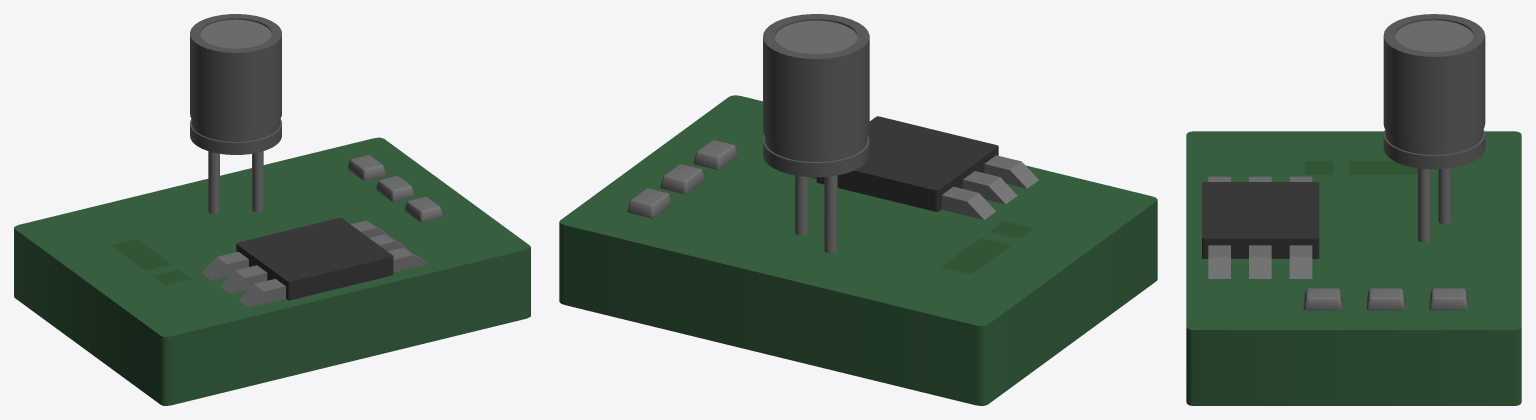
File: PiezasElectronicas.fbx
3 views of the same model, side by side, from view 1: azimuth 30°, elevation 25°; view 2: azimuth 150°, elevation 25°; view 3: azimuth 270°, elevation 25° (orthographic). The views are drawn at different scales.
Visible parts, largest first — view 1: Cube, Cylinder, Cube.001, Cube.002, Cube.003, Cylinder.001; view 2: Cube, Cylinder, Cube.001, Cube.002, Cube.003, Cylinder.001; view 3: Cube, Cylinder, Cube.001, Cube.002, Cube.003, Cylinder.001.
Part boxes in pixels (<box>): Cube: <box>14,137,530,405</box>; Cylinder: <box>190,14,281,154</box>; Cube.001: <box>236,218,393,300</box>; Cube.002: <box>202,220,428,307</box>; Cube.003: <box>347,155,443,222</box>; Cylinder.001: <box>208,151,263,213</box>; Cube: <box>559,95,1157,405</box>; Cylinder: <box>763,14,869,177</box>; Cube.001: <box>816,116,998,211</box>; Cube.002: <box>808,155,1038,219</box>; Cube.003: <box>627,140,738,218</box>; Cylinder.001: <box>795,175,837,253</box>; Cube: <box>1186,131,1521,405</box>; Cylinder: <box>1383,14,1485,169</box>; Cube.001: <box>1202,182,1319,258</box>; Cube.002: <box>1208,176,1312,278</box>; Cube.003: <box>1303,288,1468,310</box>; Cylinder.001: <box>1417,168,1450,242</box>.
Size of the model in its own units: 14 by 8.92 by 10.
